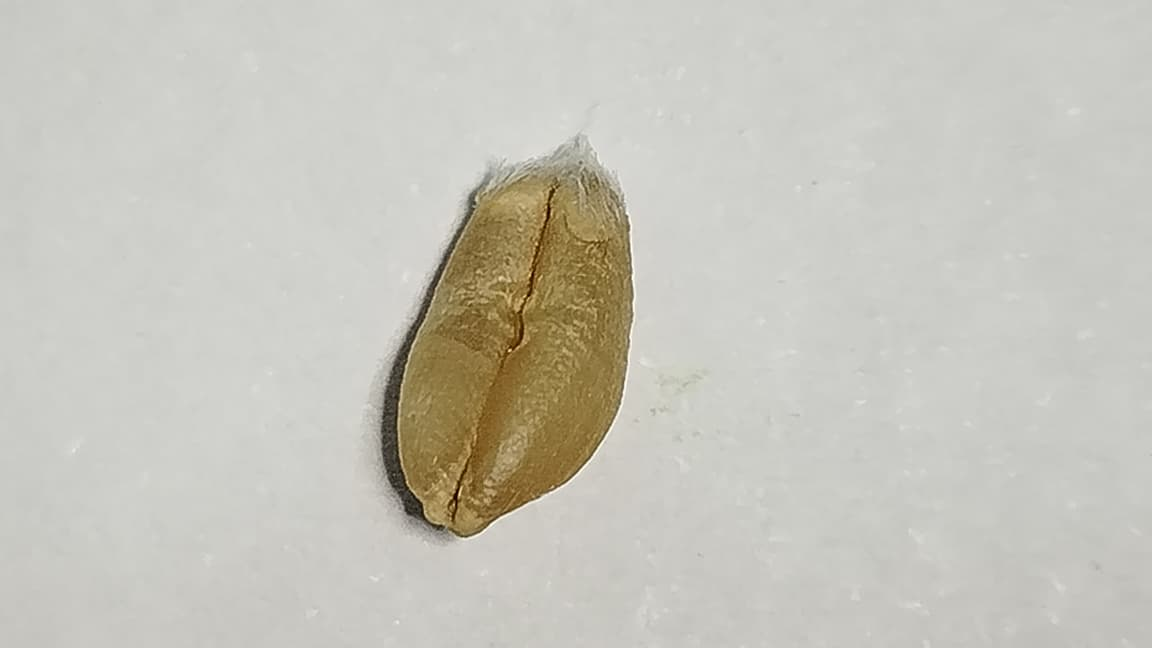healthy: (398, 152, 632, 534)
